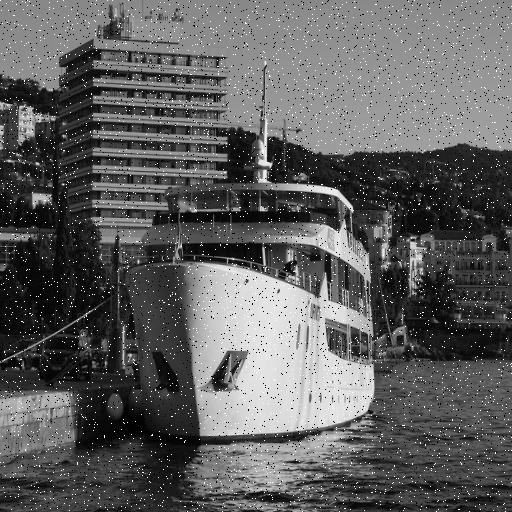cruises: (121, 174, 381, 457)
